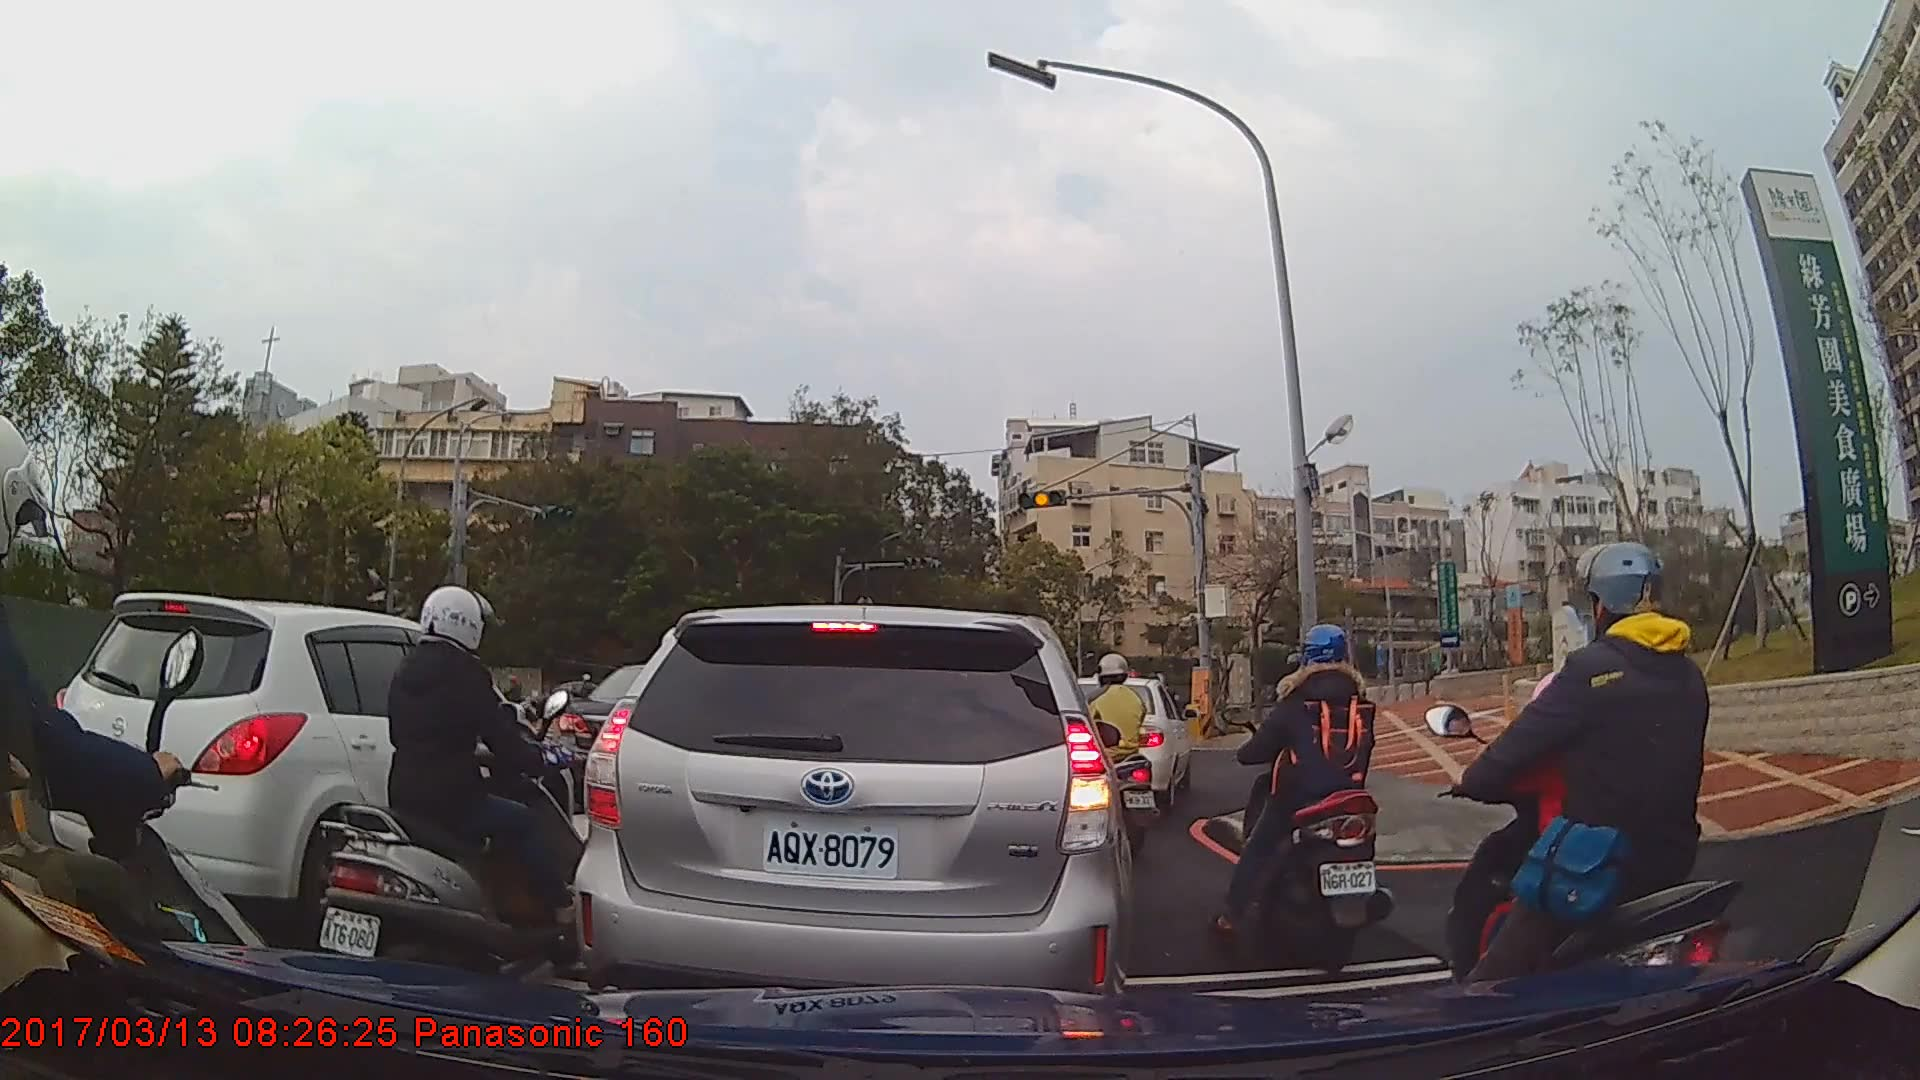rider: (1436, 542, 1747, 1050), (322, 585, 600, 991), (1203, 618, 1404, 969), (1063, 651, 1160, 854)
vehicle: (568, 601, 1138, 1033), (42, 591, 572, 932), (556, 660, 776, 804)
